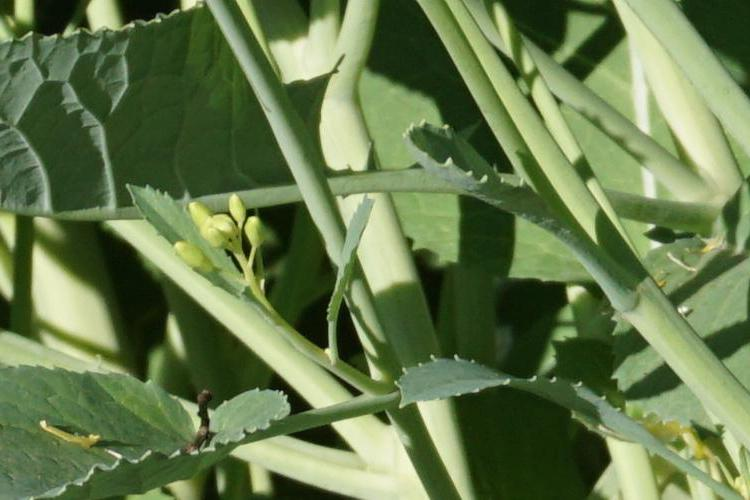bud: (171, 239, 211, 280), (185, 199, 214, 231), (209, 215, 238, 239), (230, 193, 254, 221), (246, 218, 263, 252)
